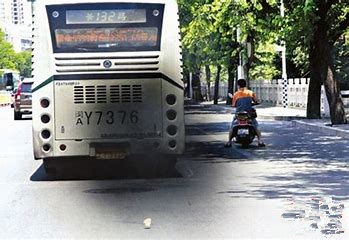smoke: (98, 108, 191, 199)
